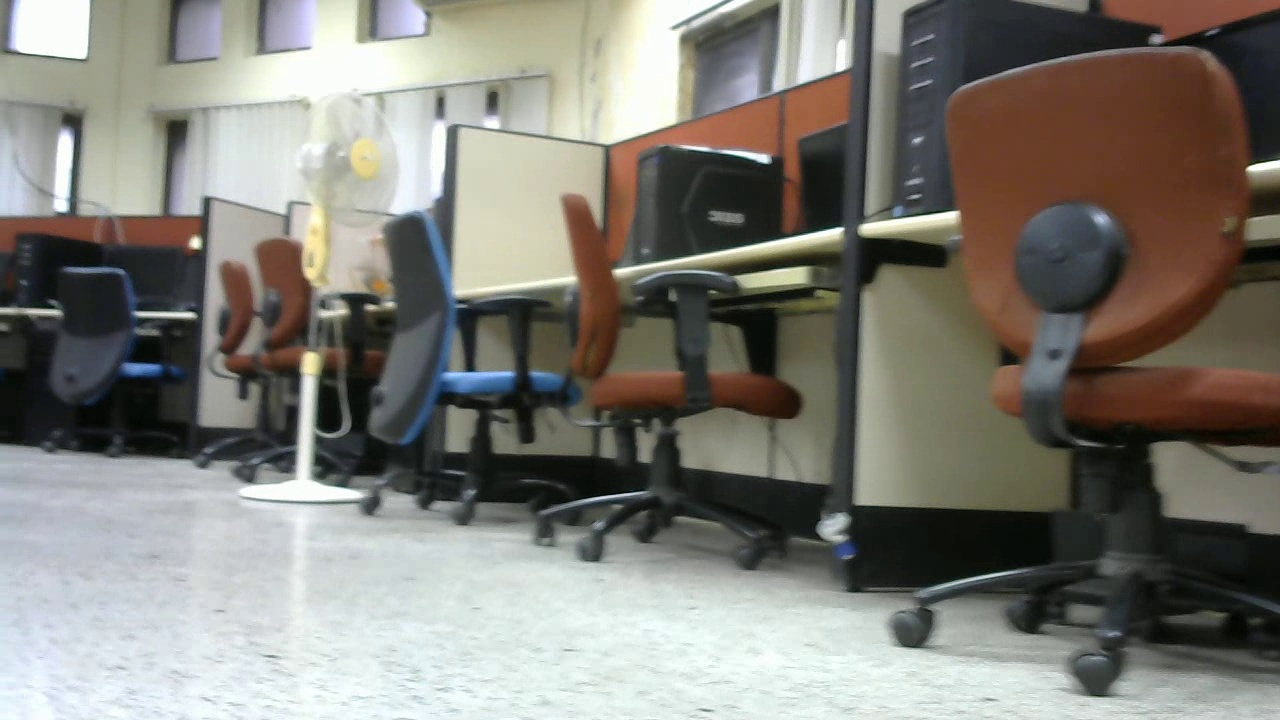chair: (887, 42, 1280, 693), (528, 192, 810, 573), (363, 210, 582, 528), (193, 239, 394, 476), (45, 264, 182, 458)
